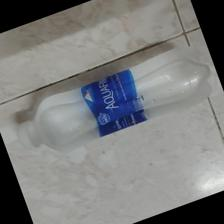Aquafina: (15, 44, 214, 157)
